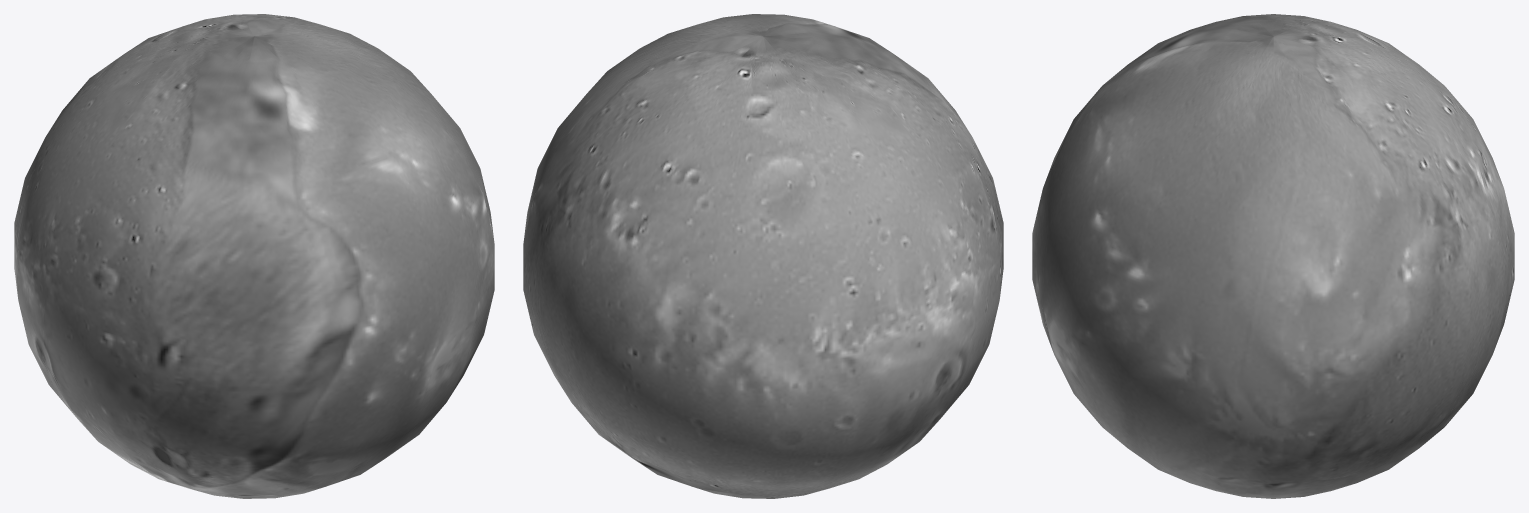
The model's file is AsteroidG.obj.
3 views of the same model, side by side, from view 1: azimuth 30°, elevation 25°; view 2: azimuth 150°, elevation 25°; view 3: azimuth 270°, elevation 25° (orthographic).
Size of the model in its own units: 1.99 by 2 by 1.99.
Materials: 1 (1 with a texture image).
